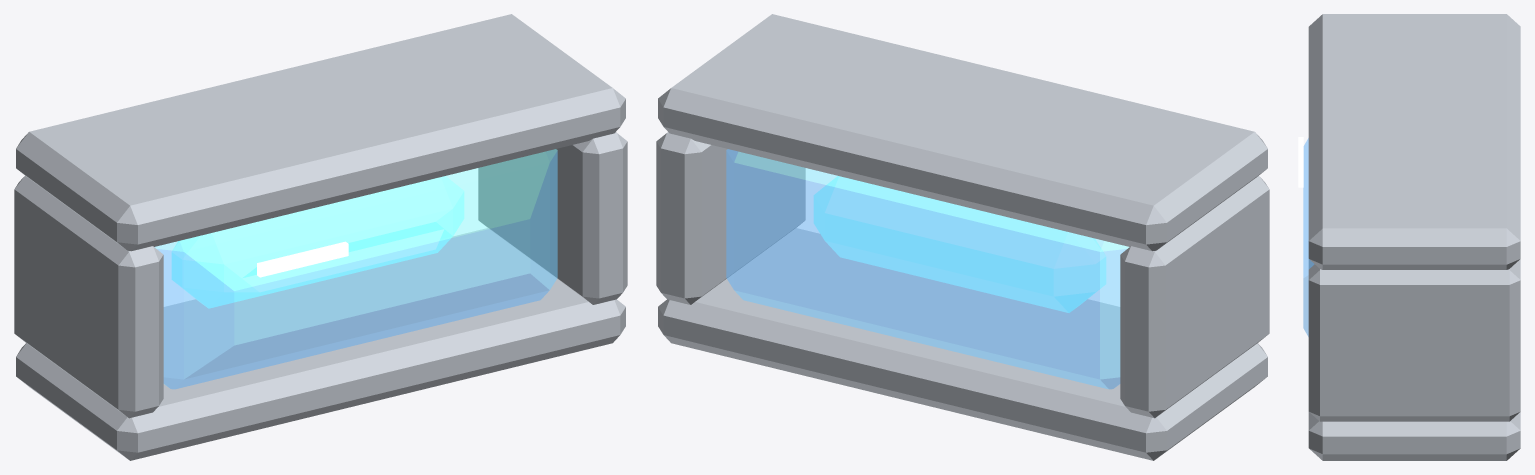
The model's file is brick_hard.glb.
The picture shows the model from 3 angles, left to right: view 1: azimuth 30°, elevation 25°; view 2: azimuth 150°, elevation 25°; view 3: azimuth 270°, elevation 25°; orthographic projection. The views are drawn at different scales.
Visible parts, largest first — view 1: brick_hard; view 2: brick_hard; view 3: brick_hard.
Part boxes in pixels (left/top/right/bottom): brick_hard: left=14, top=14, right=627, bottom=460; brick_hard: left=656, top=14, right=1269, bottom=460; brick_hard: left=1298, top=14, right=1520, bottom=460.
Size of the model in its own units: 0.96 by 0.46 by 0.399.
